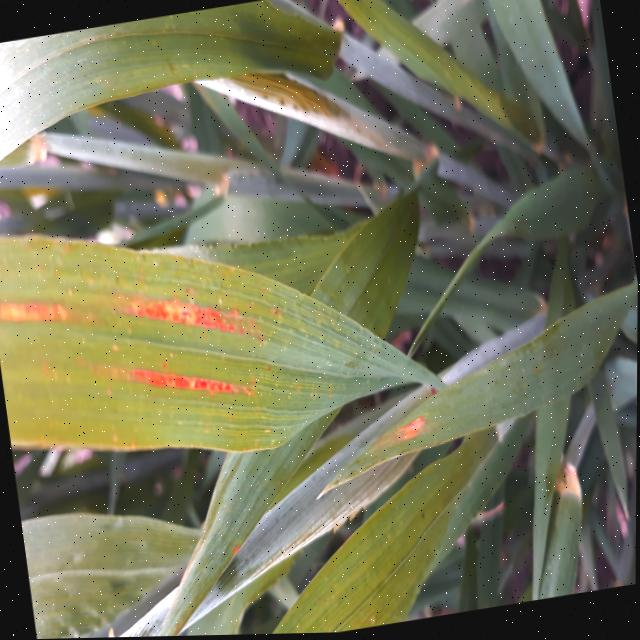yellow_rust: (0, 172, 355, 520), (364, 322, 462, 528)
